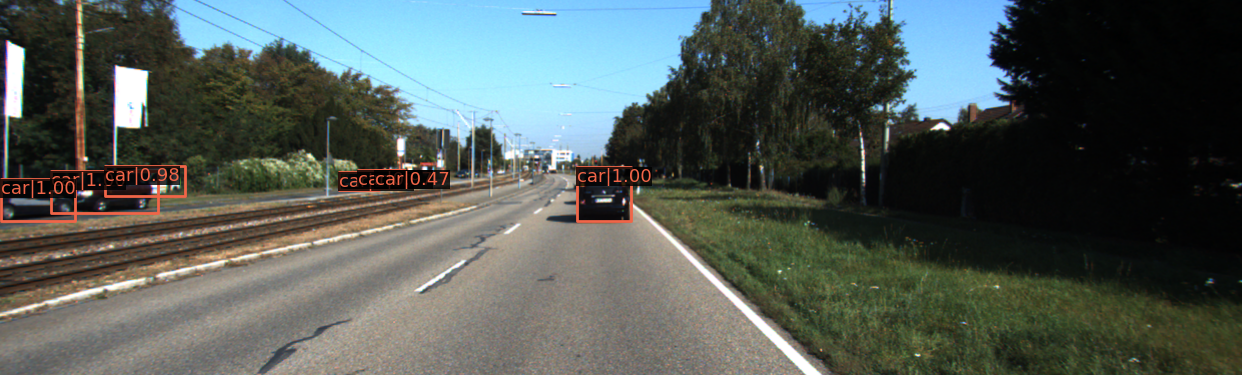car: (53, 174, 155, 214), (1, 181, 79, 223), (578, 170, 632, 223), (114, 166, 184, 199), (341, 171, 373, 190), (365, 169, 396, 187)
